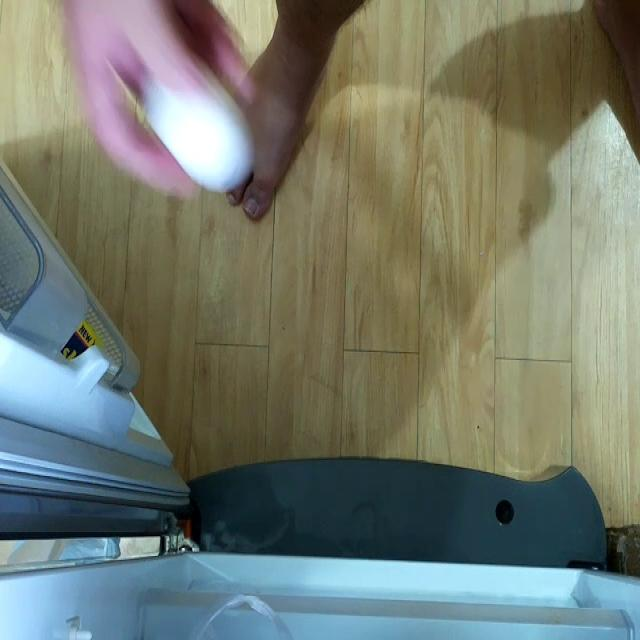egg: (142, 56, 252, 195)
